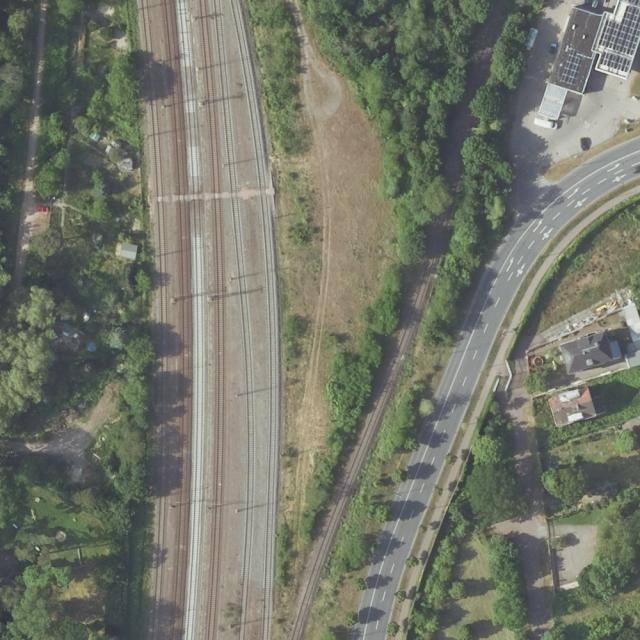PV: (597, 0, 640, 74), (559, 48, 583, 86)
